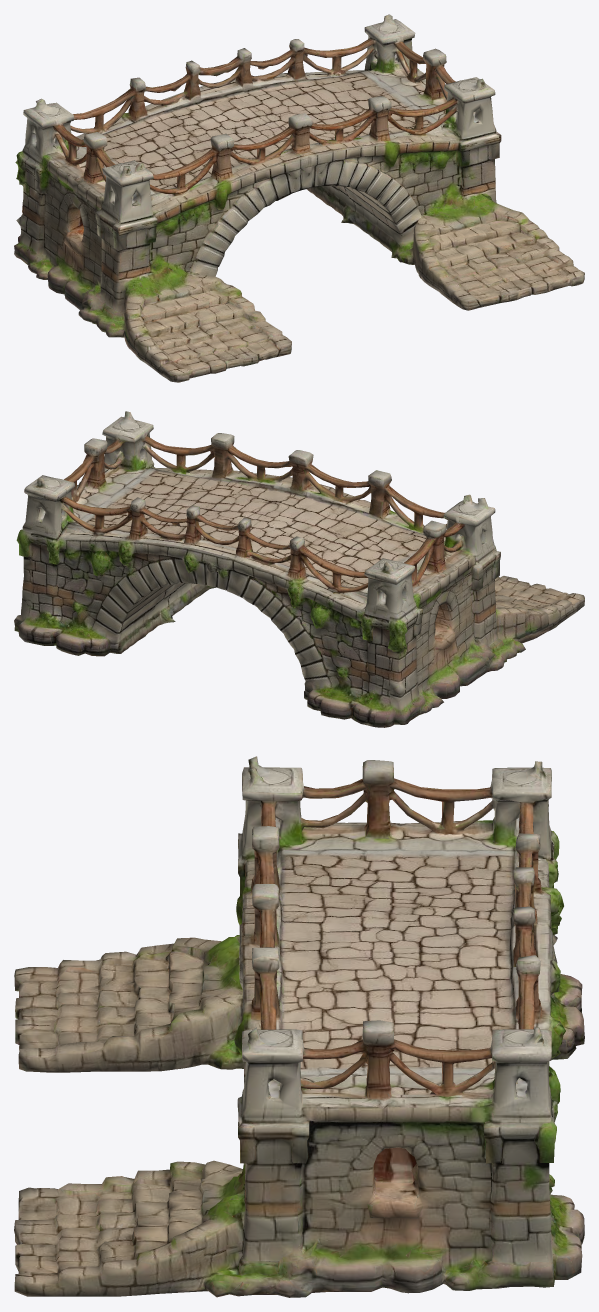
File: bridge.glb
3 renders of one model, top to bottom at view 1: azimuth 30°, elevation 25°; view 2: azimuth 150°, elevation 25°; view 3: azimuth 270°, elevation 25°, orthographic. The views are drawn at different scales.
Visible parts, largest first — view 1: Mesh_0; view 2: Mesh_0; view 3: Mesh_0.
Part boxes in pixels (x1=…): Mesh_0: x1=14, y1=14, x2=584, y2=382; Mesh_0: x1=14, y1=411, x2=584, y2=727; Mesh_0: x1=14, y1=756, x2=584, y2=1297.
Size of the model in its own units: 1.9 by 0.6837 by 1.42.
Materials: 1 (1 with a texture image).
